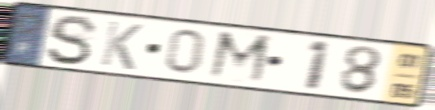0: (162, 28, 210, 77)
1: (305, 38, 331, 94)
8: (339, 44, 384, 97)
K: (97, 18, 146, 73)
M: (205, 28, 275, 88)
S: (44, 13, 101, 68)
